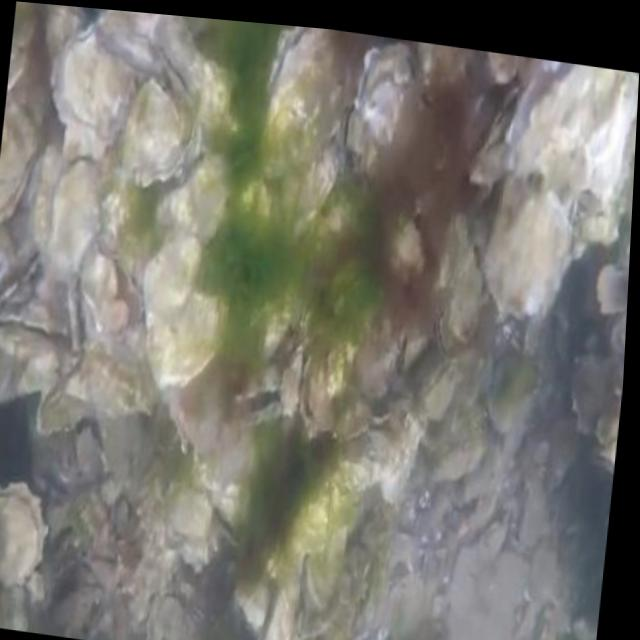Oyster-Closed: (95, 9, 204, 111), (51, 23, 135, 147), (343, 48, 410, 175), (115, 82, 196, 186), (0, 57, 47, 220), (259, 564, 301, 640), (165, 492, 211, 544), (399, 330, 428, 372)
Oyster-Indeterminate: (482, 179, 573, 323), (147, 292, 226, 392), (158, 154, 228, 244), (145, 234, 200, 334)
Oyster-Open: (503, 59, 638, 201), (259, 26, 350, 178), (0, 484, 49, 592), (437, 246, 485, 356), (301, 341, 335, 435), (235, 362, 284, 424)
